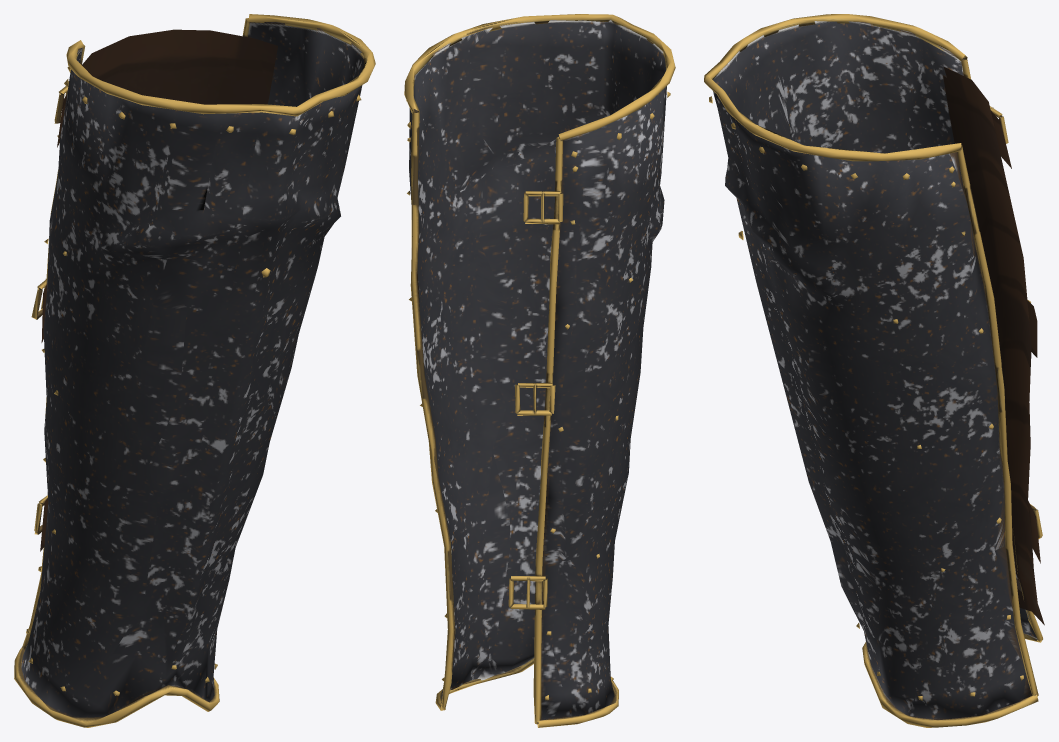
The model's file is SM_EagleGreaves_R_LOD3.fbx.
The picture shows the model from 3 angles, left to right: view 1: azimuth 30°, elevation 25°; view 2: azimuth 150°, elevation 25°; view 3: azimuth 270°, elevation 25°; orthographic projection. The views are drawn at different scales.
Parts seen in each view (by area): view 1: SM_EagleGreaves_R_LOD3; view 2: SM_EagleGreaves_R_LOD3; view 3: SM_EagleGreaves_R_LOD3.
Part boxes in pixels (left/top/right/bottom): SM_EagleGreaves_R_LOD3: left=14, top=14, right=375, bottom=727; SM_EagleGreaves_R_LOD3: left=404, top=14, right=675, bottom=727; SM_EagleGreaves_R_LOD3: left=704, top=14, right=1044, bottom=727.
Size of the model in its own units: 0.161 by 0.3962 by 0.191.
